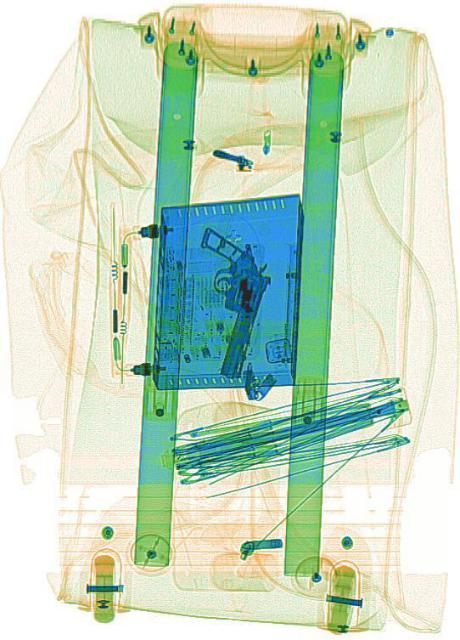Gun: (172, 224, 276, 384)
